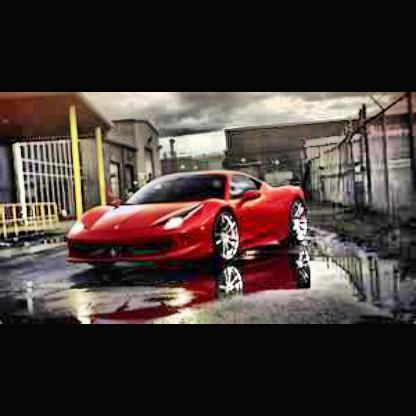Ferrari 458 Italia Coupe 2012: (70, 170, 314, 271)
